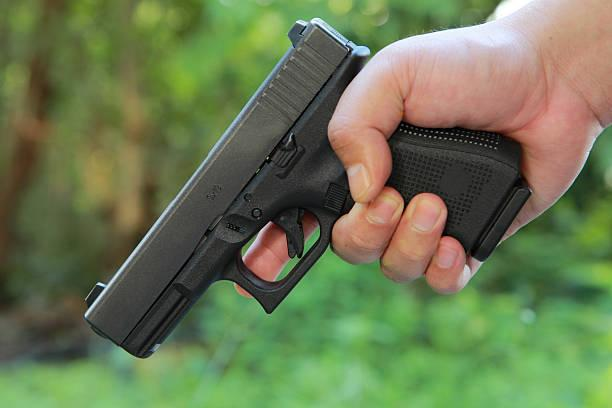weapon: (81, 15, 531, 362)
